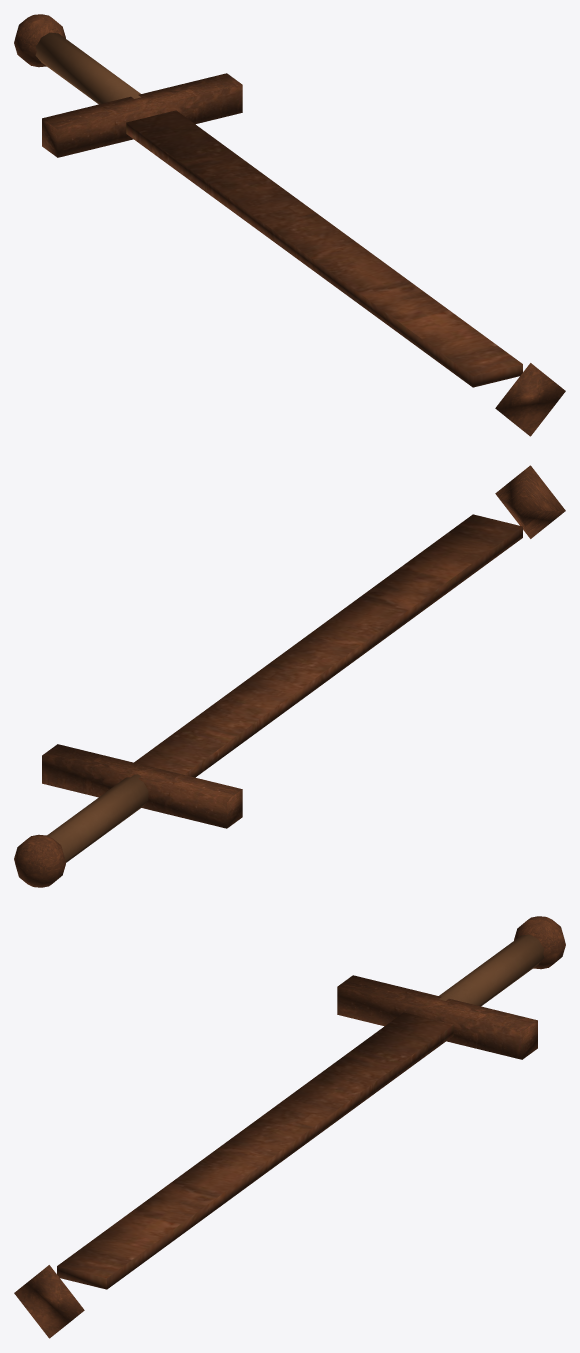
File: hm_rusty_sword.glb
3 renders of one model, top to bottom at view 1: azimuth 30°, elevation 25°; view 2: azimuth 150°, elevation 25°; view 3: azimuth 330°, elevation 25°, orthographic.
Parts seen in each view (by area): view 1: rusty_sword; view 2: rusty_sword; view 3: rusty_sword.
Part boxes in pixels (x1,y1,x2,y2): rusty_sword: (14, 14, 565, 436); rusty_sword: (14, 465, 565, 887); rusty_sword: (14, 916, 565, 1338).
Size of the model in its own units: 0.24 by 0.092 by 1.13.
Materials: 1 (1 with a texture image).
